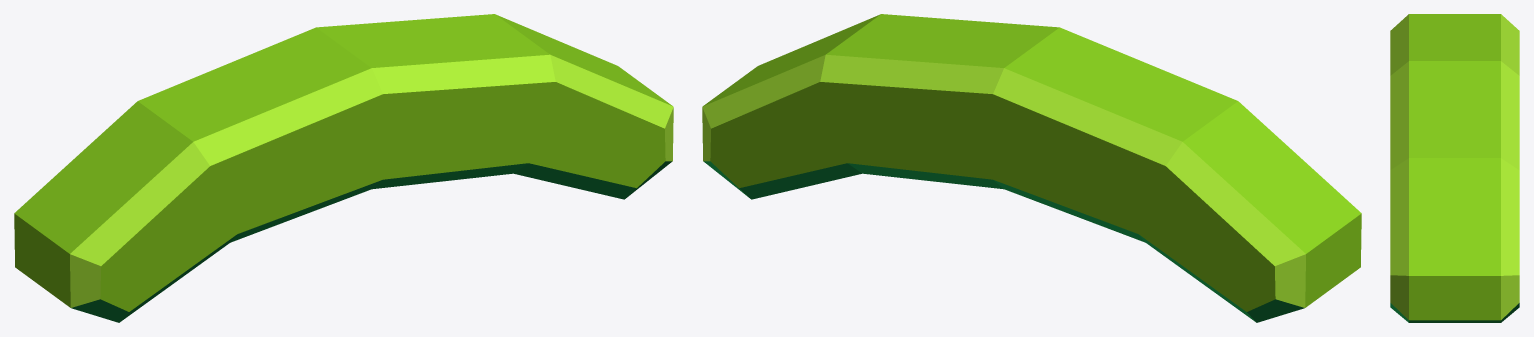
Rendered from 3d_HealthPoints_004.fbx.
3 renders of one model, left to right at view 1: azimuth 30°, elevation 25°; view 2: azimuth 150°, elevation 25°; view 3: azimuth 270°, elevation 25°, orthographic. The views are drawn at different scales.
Visible parts, largest first — view 1: GEO_HealthPoints.004; view 2: GEO_HealthPoints.004; view 3: GEO_HealthPoints.004.
Boxes of the visible parts, box(x1,y1,x2,y2) form: GEO_HealthPoints.004: box(14, 14, 673, 322); GEO_HealthPoints.004: box(702, 14, 1361, 322); GEO_HealthPoints.004: box(1390, 14, 1519, 322).
Bounding box in the file's own units: 0.8812 × 0.1972 × 0.2694.
